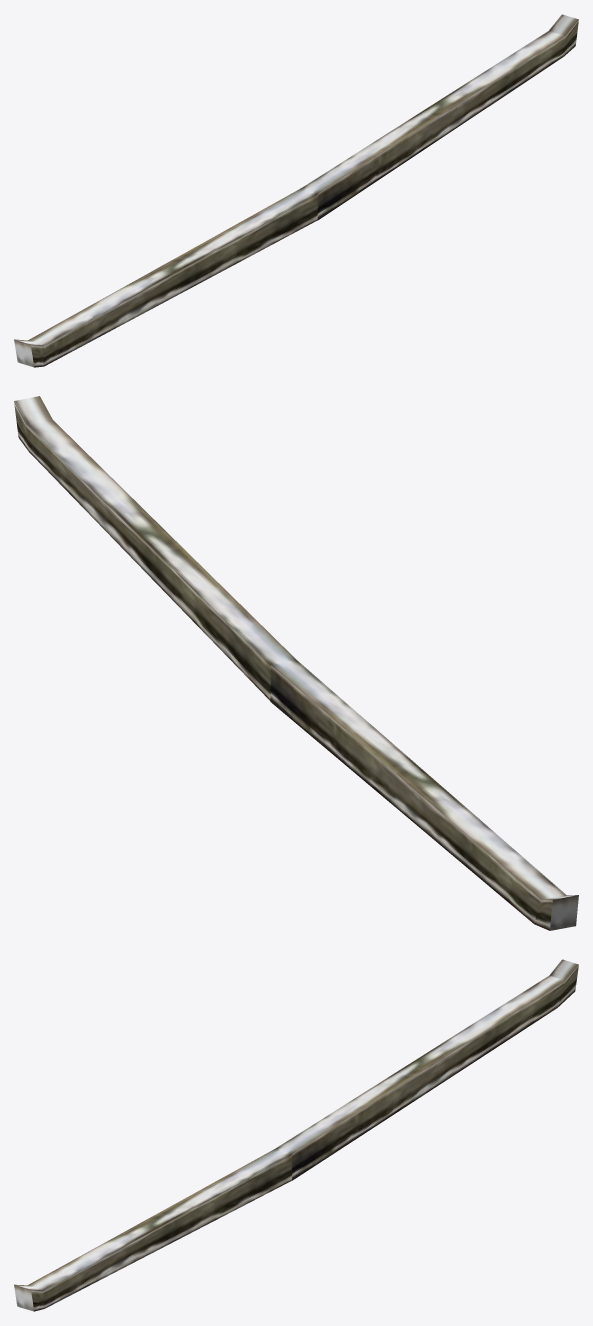
The picture shows the model from 3 angles, top to bottom: view 1: azimuth 90°, elevation 25°; view 2: azimuth 150°, elevation 25°; view 3: azimuth 270°, elevation 25°; orthographic projection. The views are drawn at different scales.
Parts seen in each view (by area): view 1: Object17; view 2: Object17; view 3: Object17.
Boxes of the visible parts, <box> form: Object17: <box>14,14,578,367</box>; Object17: <box>14,396,578,930</box>; Object17: <box>14,959,578,1311</box>.
Bounding box in the file's own units: 203 × 13.25 × 147.
